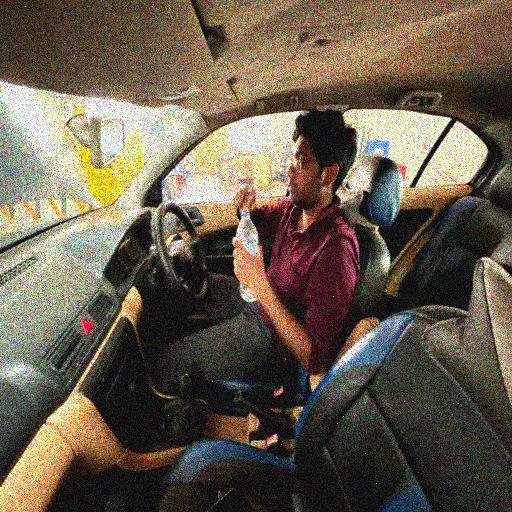Drinking: (176, 106, 362, 376)
